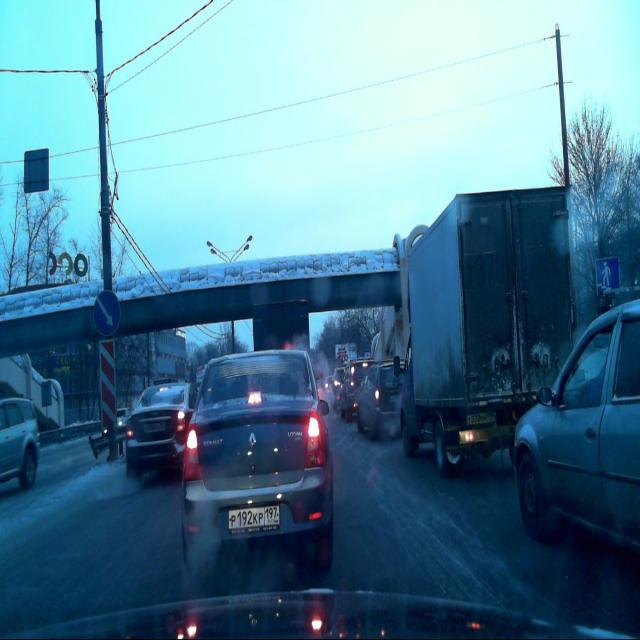object: (98, 339, 118, 431)
road sign: (596, 256, 620, 295)
